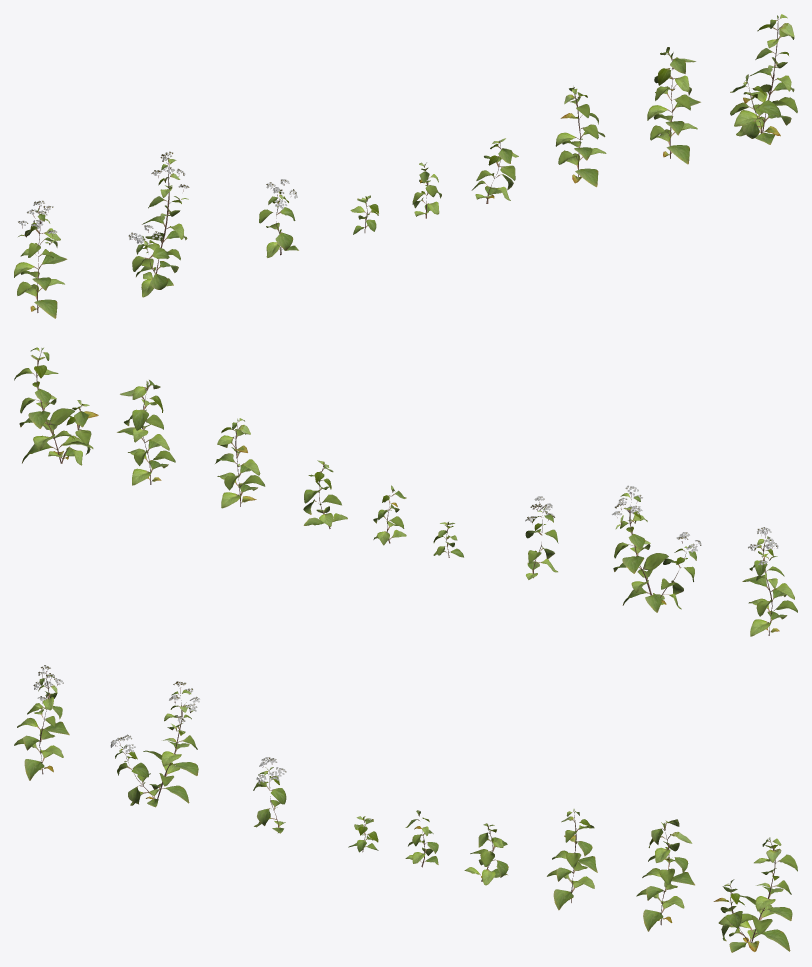
The model's file is shrub_01_lod.glb.
3 renders of one model, top to bottom at view 1: azimuth 30°, elevation 25°; view 2: azimuth 150°, elevation 25°; view 3: azimuth 330°, elevation 25°, orthographic. The views are drawn at different scales.
Parts seen in each view (by area): view 1: shrub_01_a; view 2: shrub_01_a; view 3: shrub_01_a.
Boxes of the visible parts, box(x1,y1,x2,y2) form: shrub_01_a: box(14, 14, 797, 318); shrub_01_a: box(14, 347, 797, 636); shrub_01_a: box(14, 665, 797, 952).
Bounding box in the file's own units: 2.59 × 0.3953 × 0.2178.
1 material, 1 textured.
